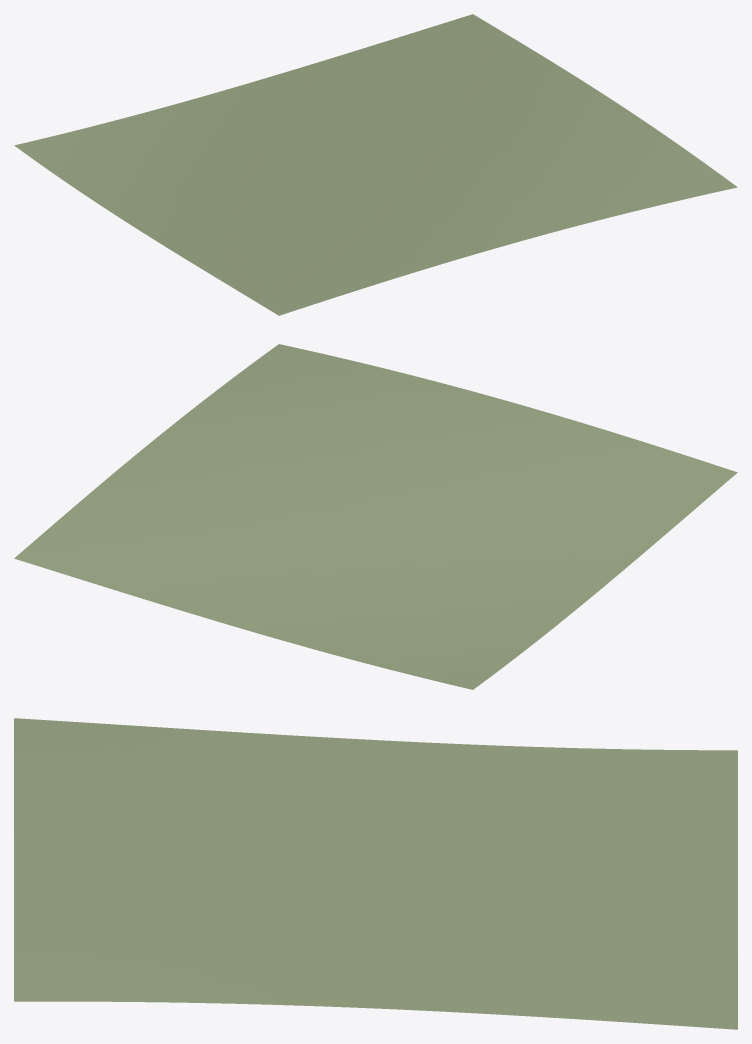
The model's file is alpine-4-12.glb.
3 renders of one model, top to bottom at view 1: azimuth 30°, elevation 25°; view 2: azimuth 150°, elevation 25°; view 3: azimuth 270°, elevation 25°, orthographic. The views are drawn at different scales.
Parts seen in each view (by area): view 1: alpine-4-12; view 2: alpine-4-12; view 3: alpine-4-12.
Part boxes in pixels (x1,y1,x2,y2): alpine-4-12: (14,14,737,315); alpine-4-12: (14,344,737,689); alpine-4-12: (14,718,737,1029).
Bounding box in the file's own units: 256 × 22.14 × 256.
